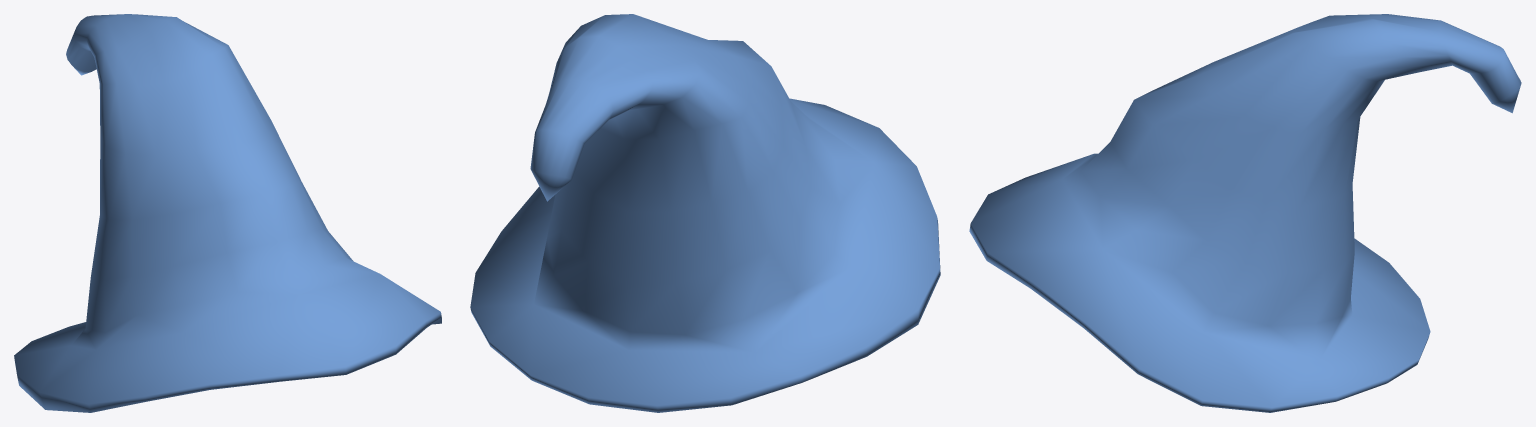
Rendered from wizardHat.fbx.
3 renders of one model, left to right at view 1: azimuth 30°, elevation 25°; view 2: azimuth 150°, elevation 25°; view 3: azimuth 270°, elevation 25°, orthographic. The views are drawn at different scales.
Visible parts, largest first — view 1: wizardHat; view 2: wizardHat; view 3: wizardHat.
Boxes of the visible parts, box(x1,y1,x2,y2) form: wizardHat: box(14, 14, 441, 412); wizardHat: box(470, 14, 940, 412); wizardHat: box(969, 14, 1521, 412).
Bounding box in the file's own units: 76.97 × 60.99 × 92.59.
